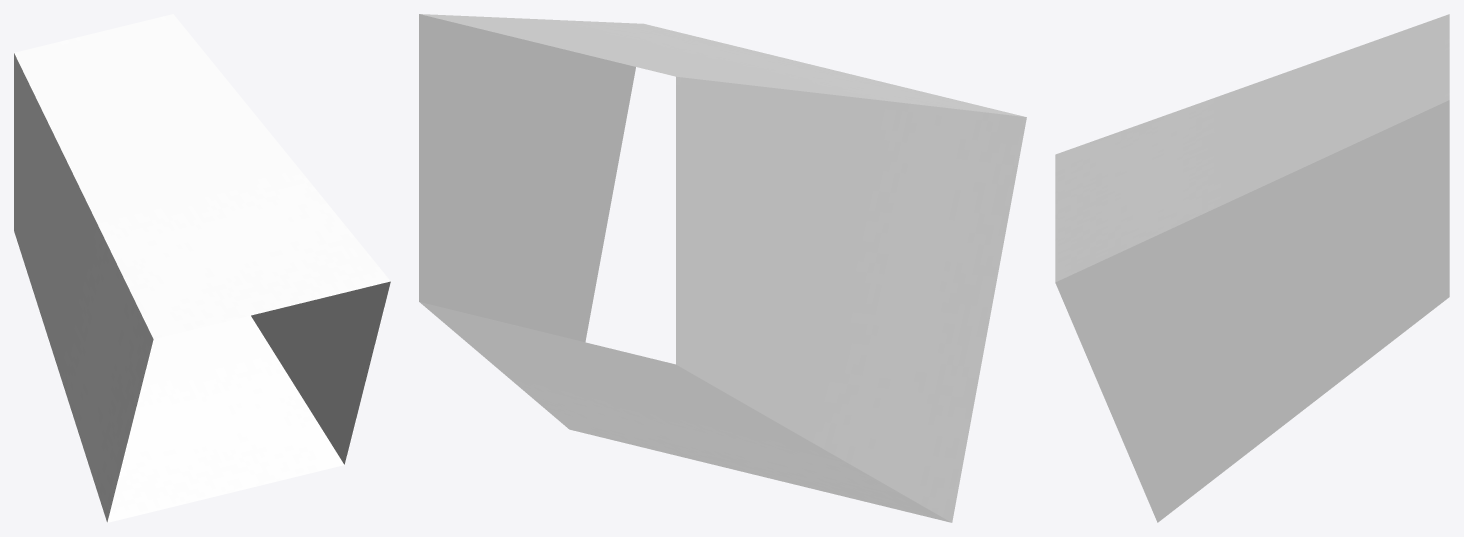
File: window_ray.fbx
3 views of the same model, side by side, from view 1: azimuth 30°, elevation 25°; view 2: azimuth 150°, elevation 25°; view 3: azimuth 270°, elevation 25° (orthographic). The views are drawn at different scales.
Visible parts, largest first — view 1: window_ray; view 2: window_ray; view 3: window_ray.
Part boxes in pixels (x1,y1,x2,y2): window_ray: [14, 14, 390, 522]; window_ray: [419, 14, 1026, 522]; window_ray: [1055, 14, 1449, 522].
Size of the model in its own units: 157 by 230 by 205.
